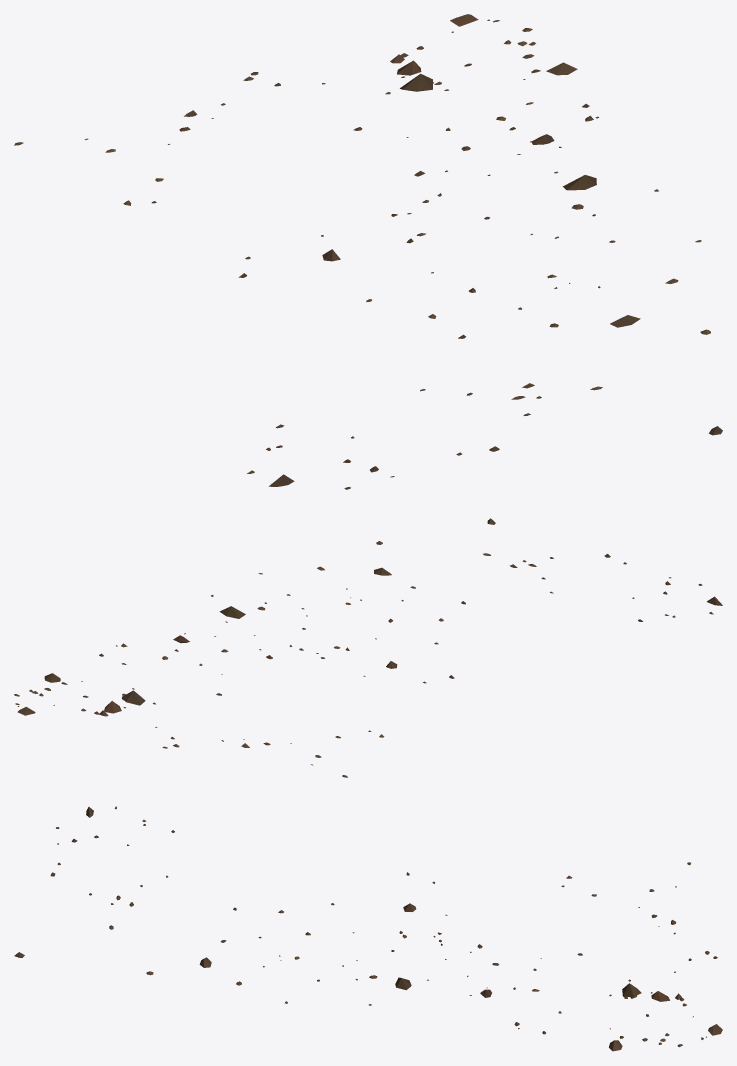
The model's file is ground-0-2.glb.
3 renders of one model, top to bottom at view 1: azimuth 30°, elevation 25°; view 2: azimuth 150°, elevation 25°; view 3: azimuth 270°, elevation 25°, orthographic. The views are drawn at different scales.
Parts seen in each view (by area): view 1: ground-0-2; view 2: ground-0-2; view 3: ground-0-2.
Part boxes in pixels (box(x1,y1,x2,y2)): ground-0-2: box(14, 14, 722, 489); ground-0-2: box(14, 518, 722, 777); ground-0-2: box(14, 806, 722, 1051).
Bounding box in the file's own units: 15.8 × 0.8198 × 19.79.
